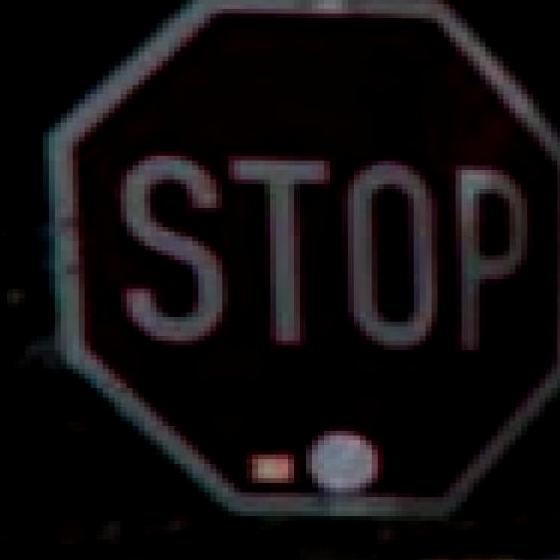stop_sign: (45, 0, 560, 521)
